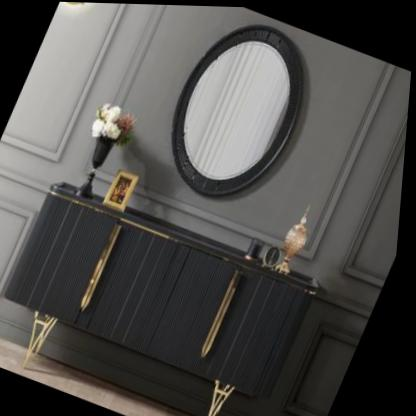Sideboard: (7, 183, 322, 416)
